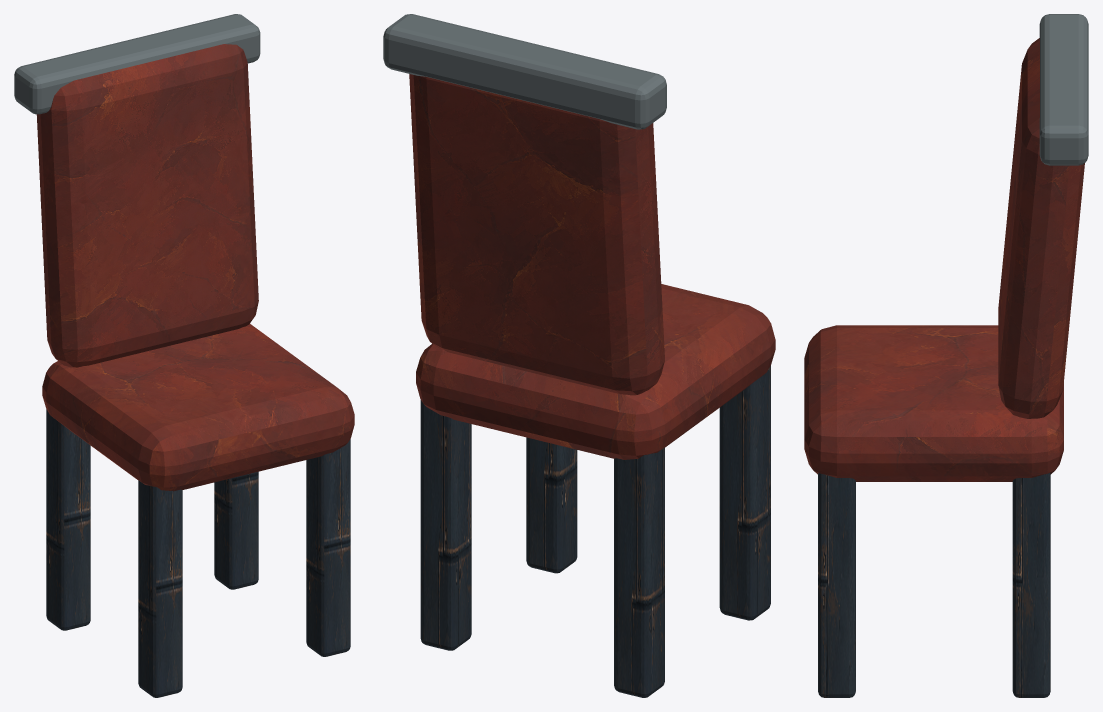
Rendered from APT_Chair_Dining_Rust.glb.
The picture shows the model from 3 angles, left to right: view 1: azimuth 30°, elevation 25°; view 2: azimuth 150°, elevation 25°; view 3: azimuth 270°, elevation 25°; orthographic projection. The views are drawn at different scales.
Visible parts, largest first — view 1: APT_Chair_Dining_Rust_Back, APT_Chair_Dining_Rust_Seat, APT_Chair_Dining_Rust_Leg_-0.19_-0.18, APT_Chair_Dining_Rust_Leg_0.19_-0.18, APT_Chair_Dining_Rust_Leg_-0.19_0.18, APT_Chair_Dining_Rust_BackRail, APT_Chair_Dining_Rust_Leg_0.19_0.18; view 2: APT_Chair_Dining_Rust_Back, APT_Chair_Dining_Rust_Seat, APT_Chair_Dining_Rust_BackRail, APT_Chair_Dining_Rust_Leg_-0.19_0.18, APT_Chair_Dining_Rust_Leg_0.19_0.18, APT_Chair_Dining_Rust_Leg_-0.19_-0.18, APT_Chair_Dining_Rust_Leg_0.19_-0.18; view 3: APT_Chair_Dining_Rust_Seat, APT_Chair_Dining_Rust_Back, APT_Chair_Dining_Rust_Leg_0.19_0.18, APT_Chair_Dining_Rust_Leg_0.19_-0.18, APT_Chair_Dining_Rust_BackRail.
Part boxes in pixels (<box>): APT_Chair_Dining_Rust_Back: <box>36,44,258,367</box>; APT_Chair_Dining_Rust_Seat: <box>42,324,354,491</box>; APT_Chair_Dining_Rust_Leg_-0.19_-0.18: <box>138,480,182,697</box>; APT_Chair_Dining_Rust_Leg_0.19_-0.18: <box>306,439,350,656</box>; APT_Chair_Dining_Rust_Leg_-0.19_0.18: <box>46,409,90,630</box>; APT_Chair_Dining_Rust_BackRail: <box>14,14,260,114</box>; APT_Chair_Dining_Rust_Leg_0.19_0.18: <box>214,471,258,589</box>; APT_Chair_Dining_Rust_Back: <box>409,74,664,395</box>; APT_Chair_Dining_Rust_Seat: <box>416,284,775,459</box>; APT_Chair_Dining_Rust_BackRail: <box>383,14,666,129</box>; APT_Chair_Dining_Rust_Leg_-0.19_0.18: <box>614,447,664,697</box>; APT_Chair_Dining_Rust_Leg_0.19_0.18: <box>420,400,471,650</box>; APT_Chair_Dining_Rust_Leg_-0.19_-0.18: <box>719,365,770,620</box>; APT_Chair_Dining_Rust_Leg_0.19_-0.18: <box>526,437,577,573</box>; APT_Chair_Dining_Rust_Seat: <box>804,325,1063,481</box>; APT_Chair_Dining_Rust_Back: <box>998,38,1084,418</box>; APT_Chair_Dining_Rust_Leg_0.19_0.18: <box>1012,473,1050,697</box>; APT_Chair_Dining_Rust_Leg_0.19_-0.18: <box>818,473,855,697</box>; APT_Chair_Dining_Rust_BackRail: <box>1039,14,1088,165</box>.
Bounding box in the file's own units: 0.52 × 1.18 × 0.525.
Materials: 3 (2 with a texture image).
